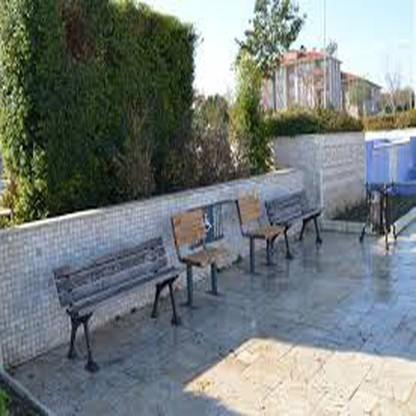obstacle: (47, 231, 162, 359), (171, 204, 229, 295), (276, 173, 326, 247), (241, 188, 269, 264)
